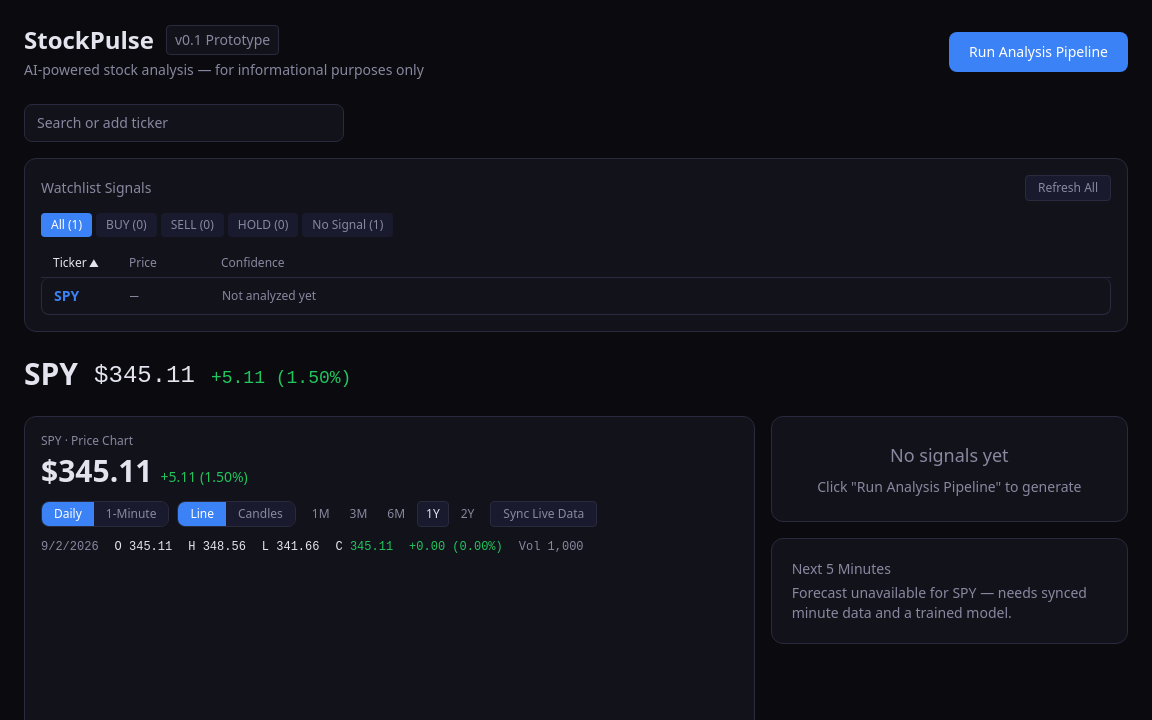
Test case: Dashboard › adds a new ticker via the search box, auto-syncs real data for it, and switches to it
Step 1. Type "tsla" into the field with placeholder "Search or add ticker" → (184, 123), box [24, 104, 344, 142]
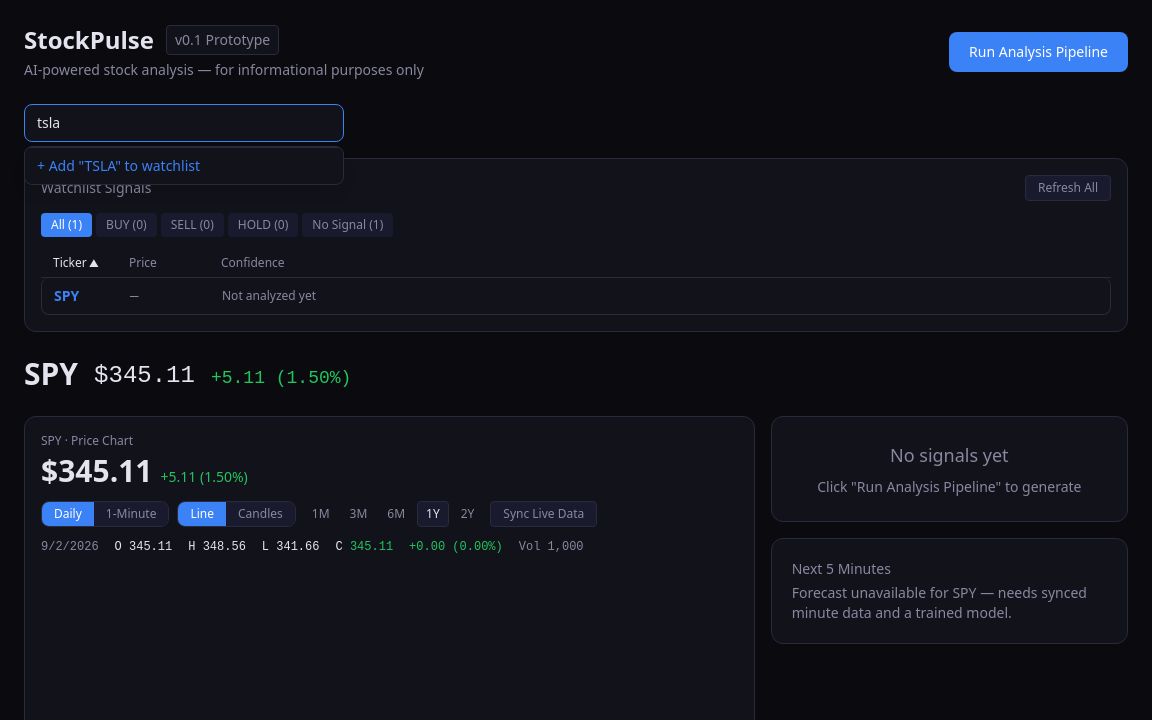
Step 2. Click the button "+ Add \"TSLA\" to watchlist" → click(184, 166), box [25, 147, 343, 184]
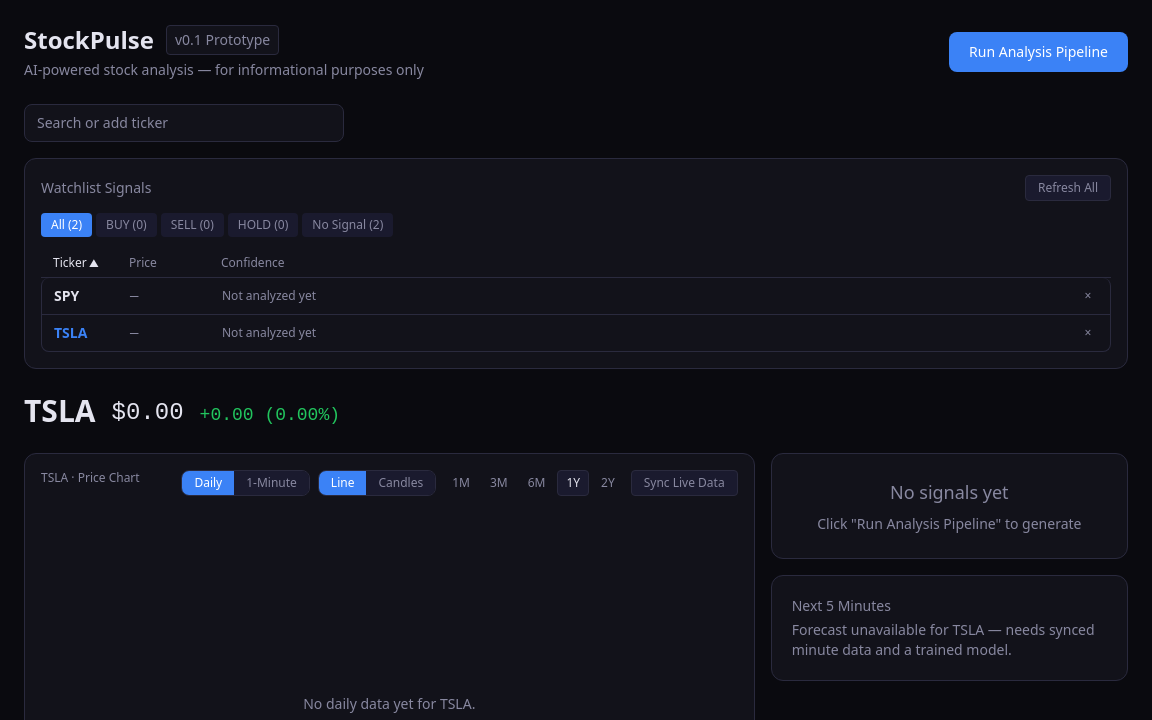
Expected: the button "TSLA" is shown, [54, 323, 118, 343]
